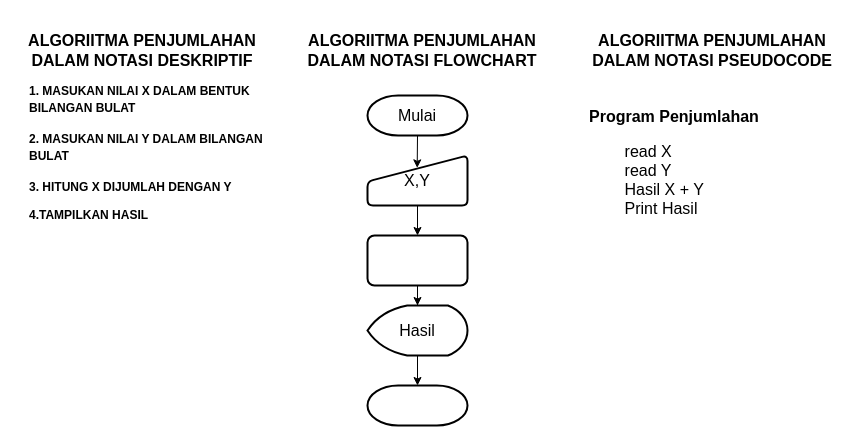
Some shapes in this 854 by 443 pixel diagram are drawn without their labels. Here are the shapes that lost their labels. From the top down, the box of each, then its label:
(366, 234, 468, 286): X + Y
(366, 384, 468, 426): Selesai
